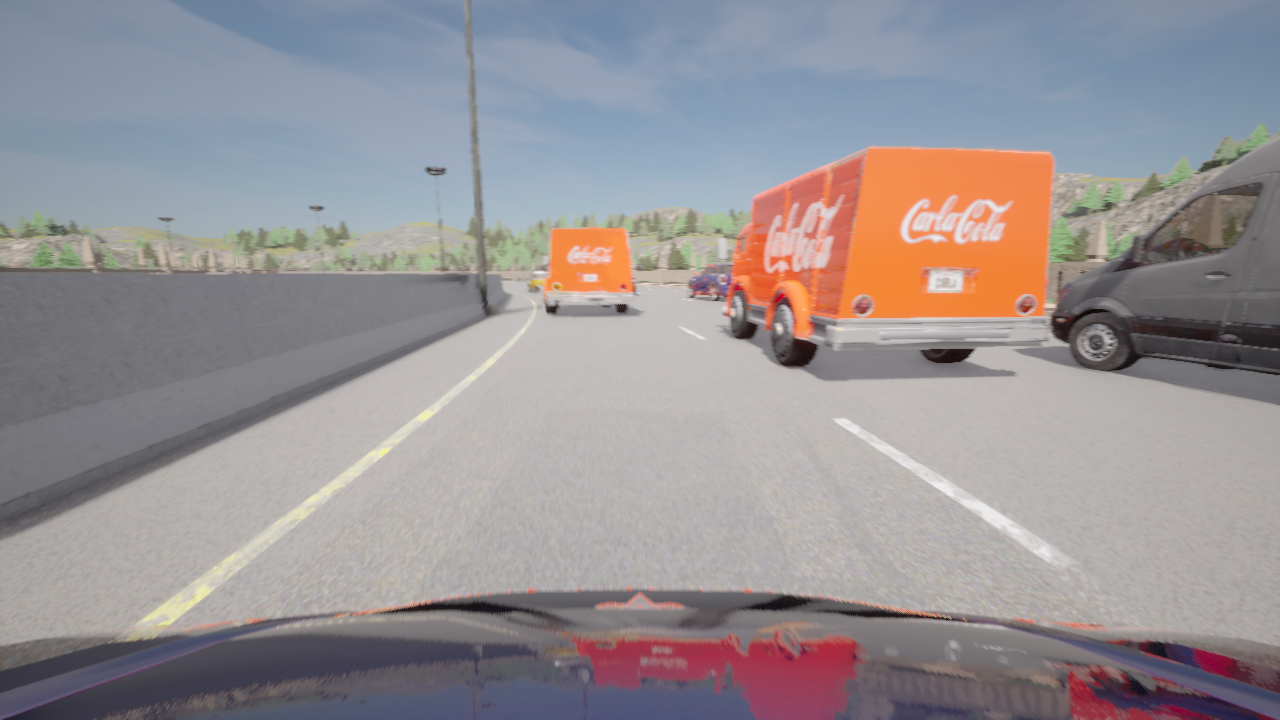cyclist: (0, 588, 1279, 719), (716, 146, 1053, 366), (1050, 137, 1279, 375), (542, 228, 634, 314), (686, 262, 733, 301), (527, 271, 547, 292), (631, 274, 636, 294)
